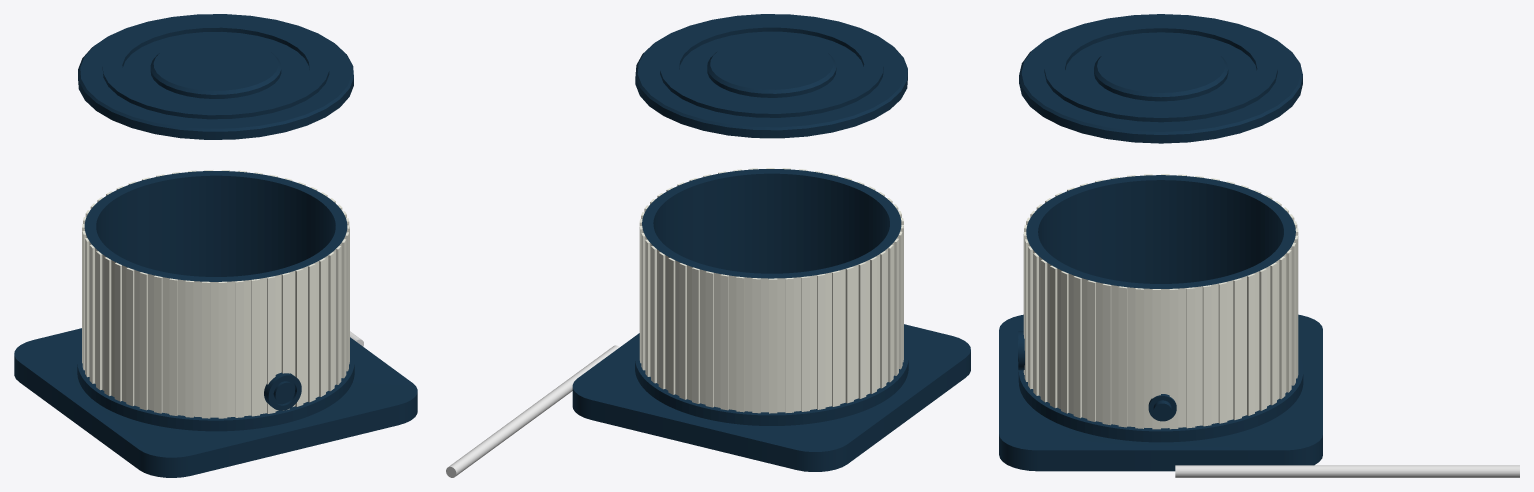
File: 3DMODEL1-COMP.glb
The picture shows the model from 3 angles, left to right: view 1: azimuth 30°, elevation 25°; view 2: azimuth 150°, elevation 25°; view 3: azimuth 270°, elevation 25°; orthographic projection. The views are drawn at different scales.
Parts seen in each view (by area): view 1: Cylinder; view 2: Cylinder, Cylinder.003; view 3: Cylinder, Cylinder.003.
Boxes of the visible parts, box(x1,y1,x2,y2) form: Cylinder: box(14, 14, 417, 477); Cylinder: box(572, 14, 970, 471); Cylinder.003: box(446, 345, 619, 477); Cylinder: box(999, 14, 1322, 471); Cylinder.003: box(1175, 465, 1519, 477).
Size of the model in its own units: 2.56 by 2.76 by 3.86.
